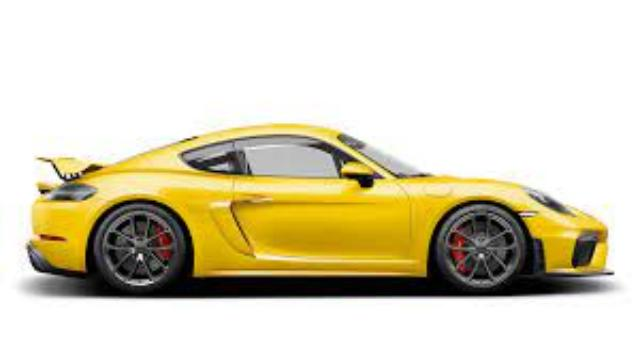porsche: (26, 123, 614, 297)
